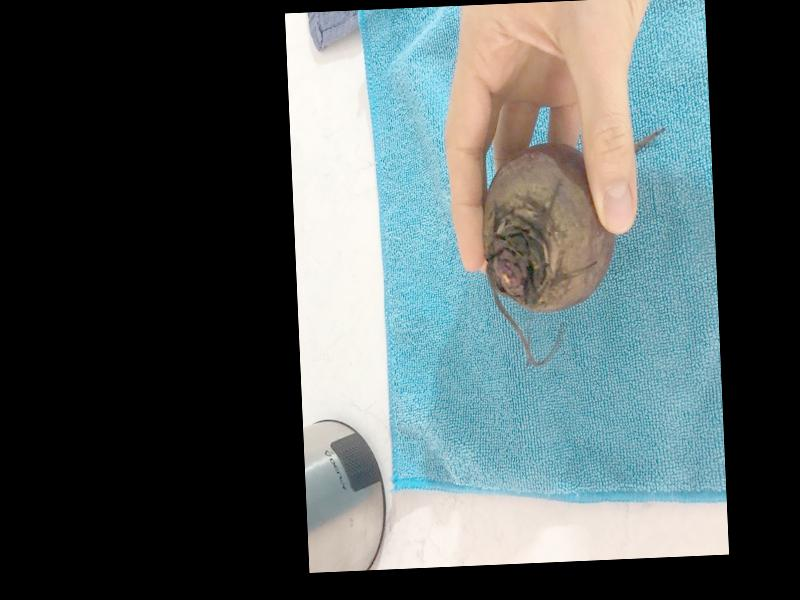Beet: (479, 128, 674, 366)
